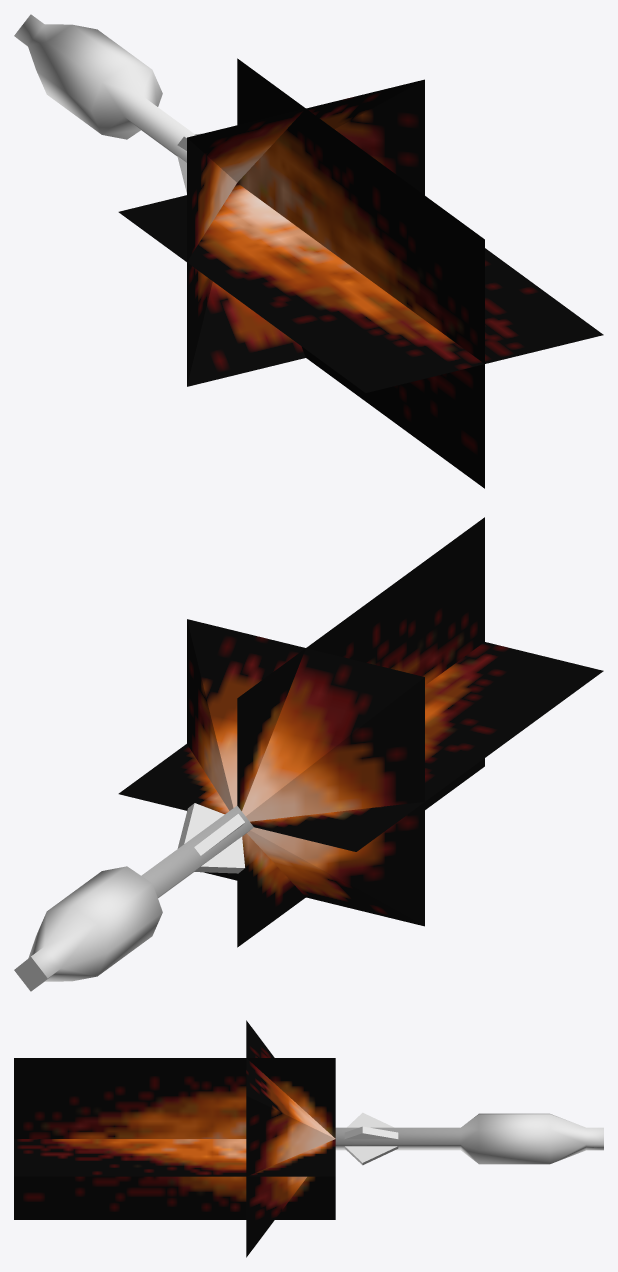
Rendered from missile.glb.
3 renders of one model, top to bottom at view 1: azimuth 30°, elevation 25°; view 2: azimuth 150°, elevation 25°; view 3: azimuth 270°, elevation 25°, orthographic. The views are drawn at different scales.
Parts seen in each view (by area): view 1: Plane, missile; view 2: Plane, missile; view 3: Plane, missile.
Boxes of the visible parts, left/top/right/bottom form: Plane: left=118, top=58, right=603, bottom=488; missile: left=14, top=14, right=201, bottom=192; Plane: left=118, top=517, right=603, bottom=947; missile: left=14, top=803, right=253, bottom=991; Plane: left=14, top=1020, right=335, bottom=1257; missile: left=335, top=1112, right=603, bottom=1165.
Bounding box in the file's own units: 1 × 1 × 3.3.
Materials: 2 (1 with a texture image).
